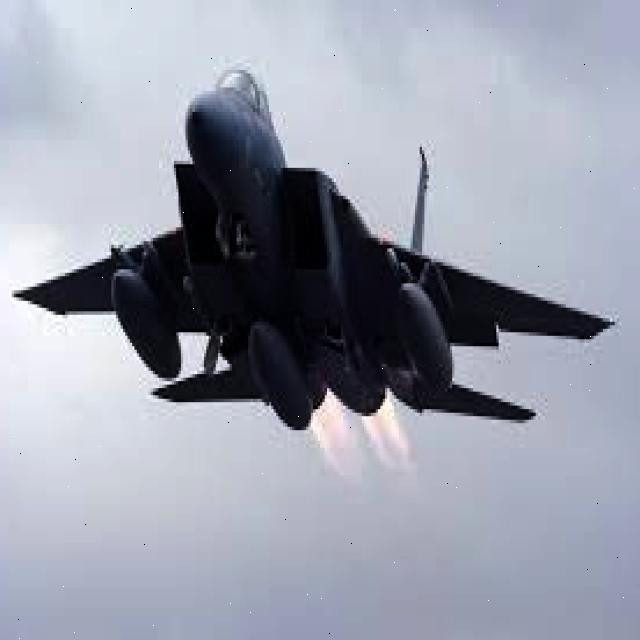F15: (0, 56, 636, 500)
